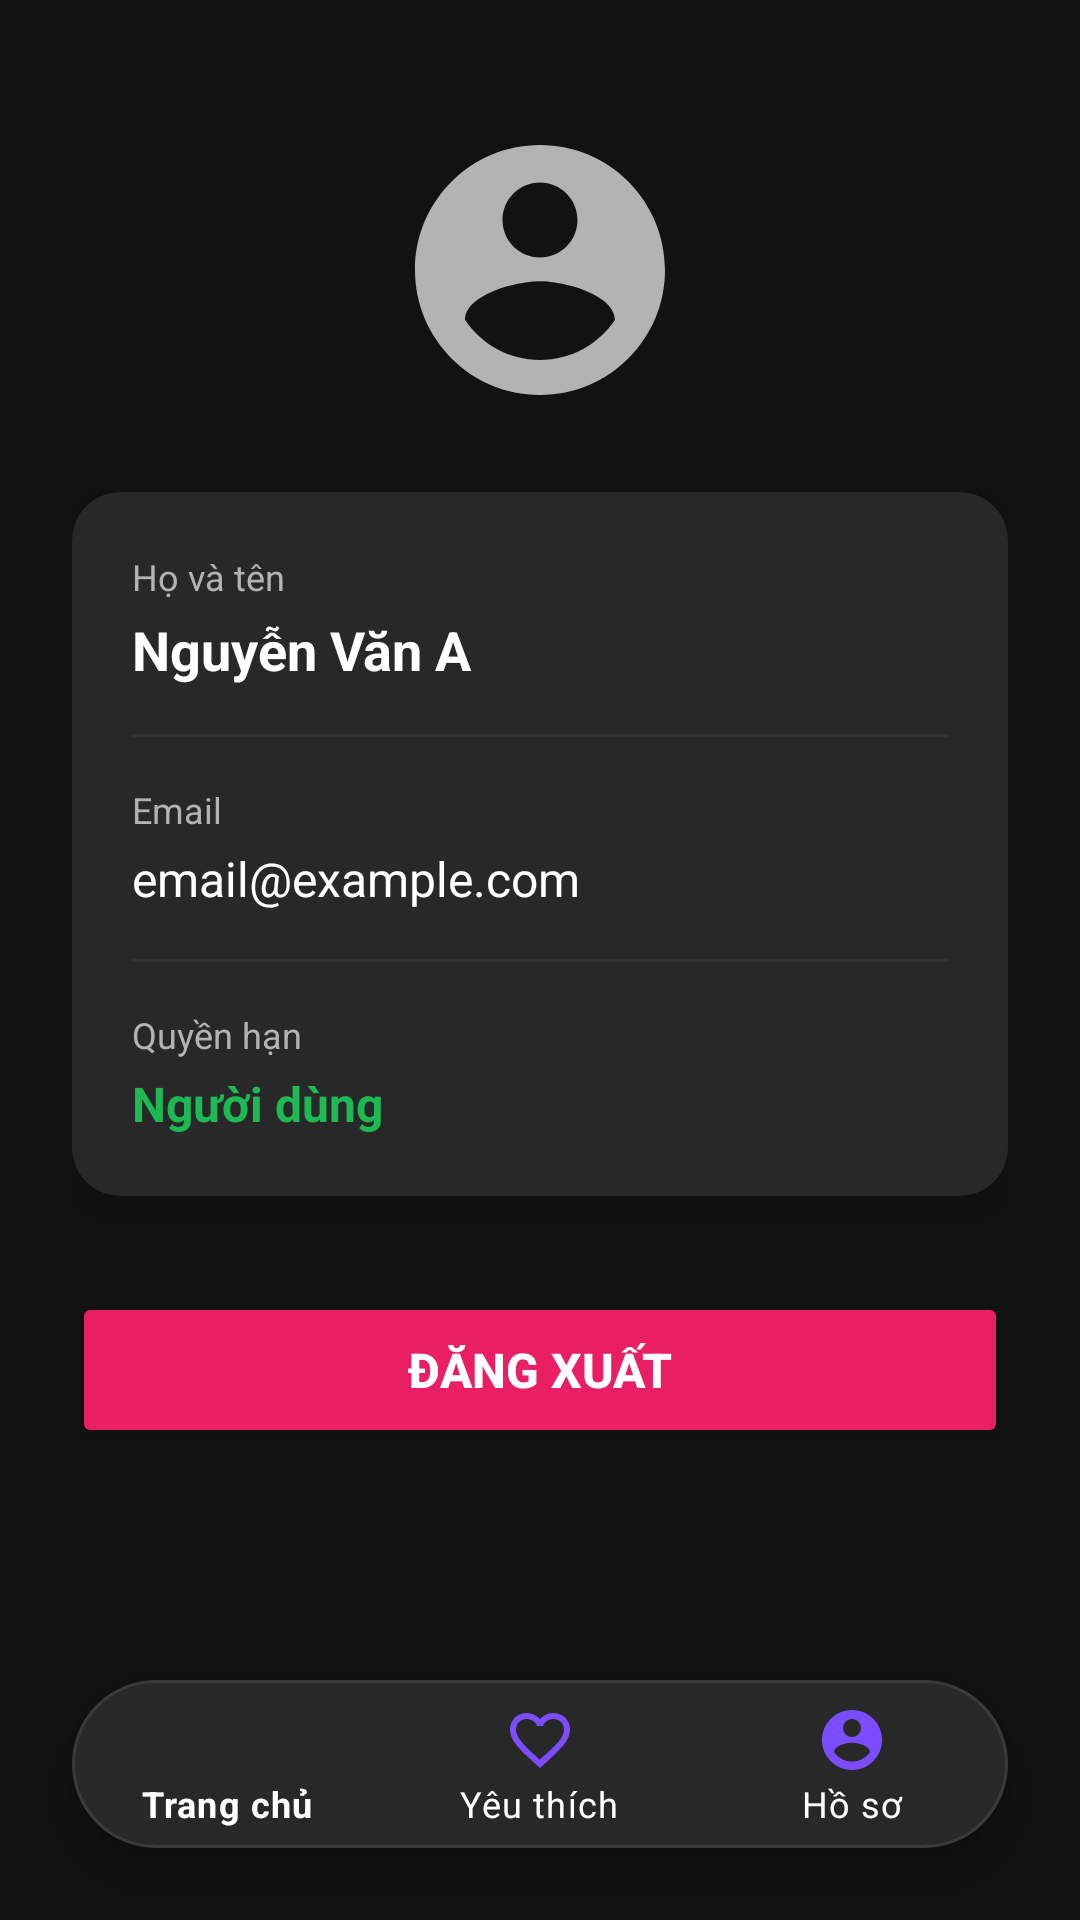

Icon click points for this 1080*1920 phone screenshot, format point (x, y):
Avatar: point (540, 270)
